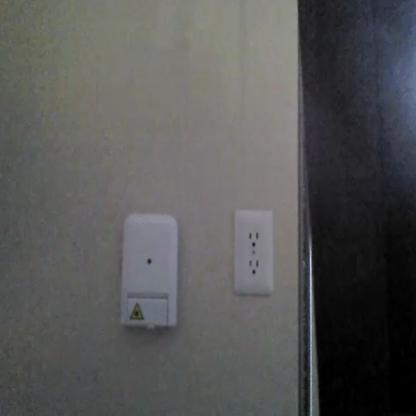OUTLET: (233, 209, 274, 295)
